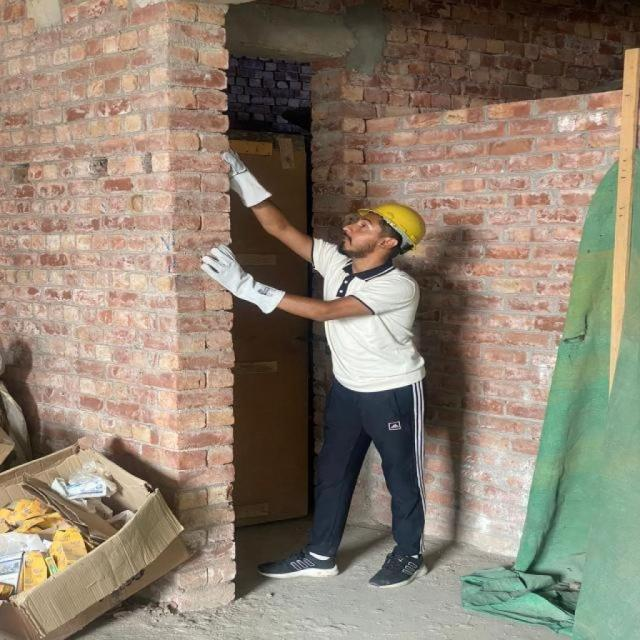Gloves-Detection: (194, 239, 274, 315), (222, 142, 264, 210)
